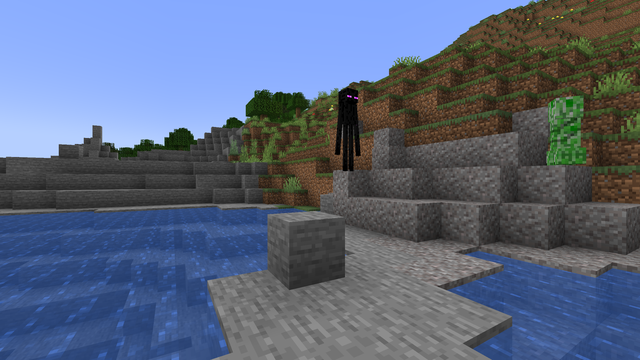creepers: (544, 90, 585, 164)
endermens: (336, 84, 359, 169)
